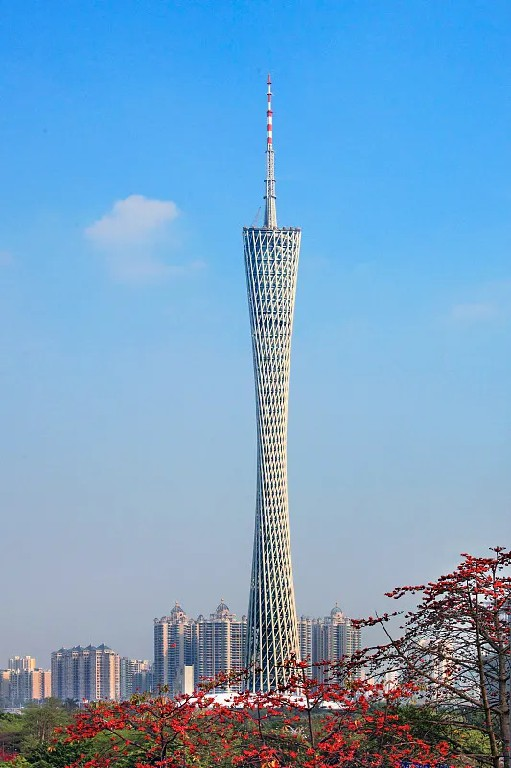Canton: (237, 72, 307, 696)
